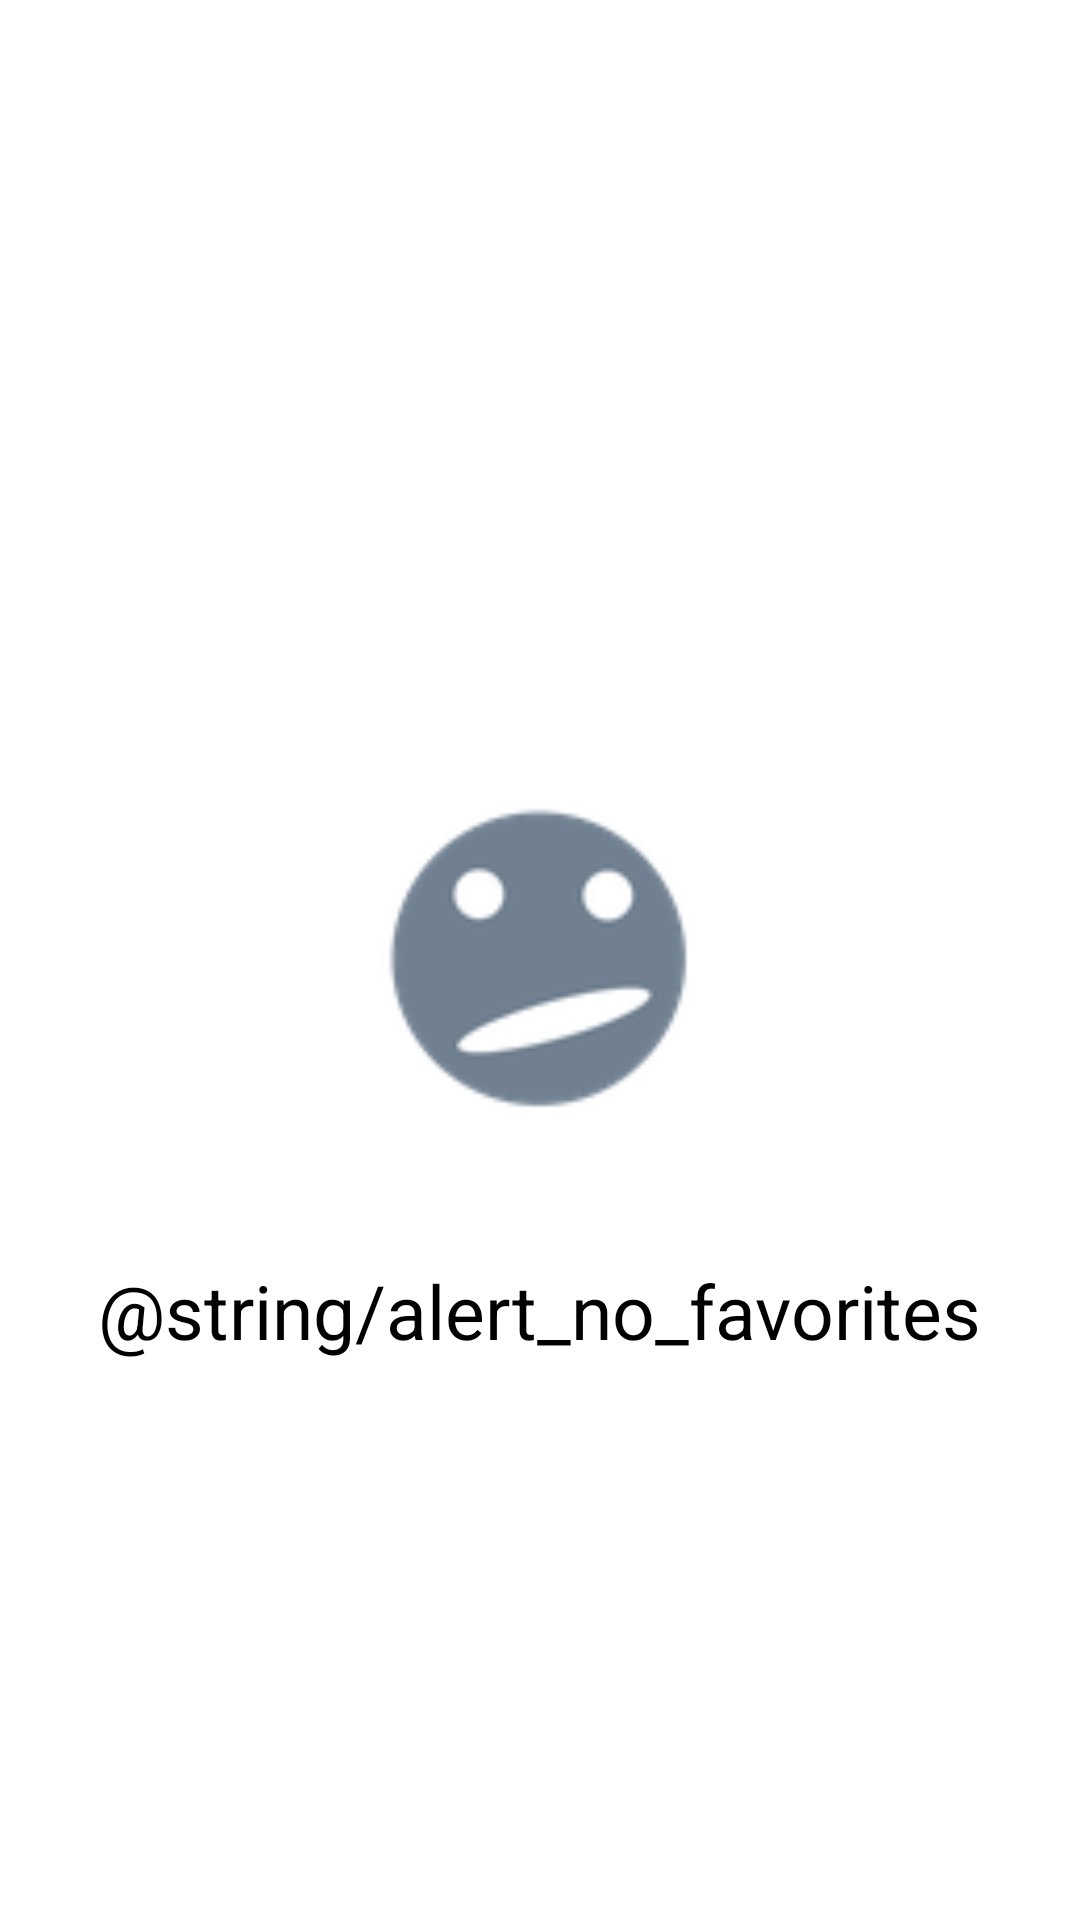

Where icons sit on this 1080 x 1920 app screen, as (x1, y1, x2, y2):
smiley sad: (390, 810, 687, 1107)
